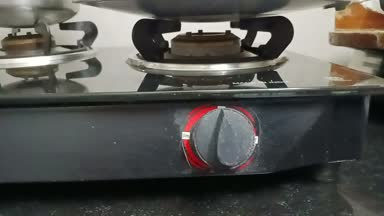noflame_gason: (126, 21, 305, 181)
